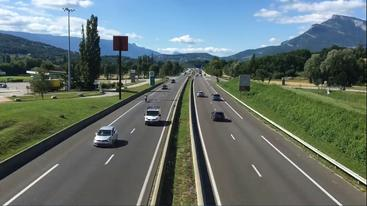car: (90, 121, 124, 153), (136, 104, 169, 128), (209, 107, 229, 125), (210, 91, 225, 102)
